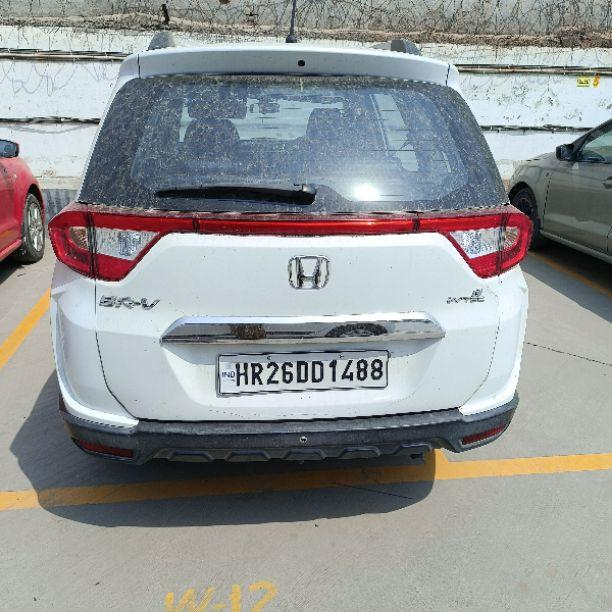license_plate: (215, 348, 389, 395)
